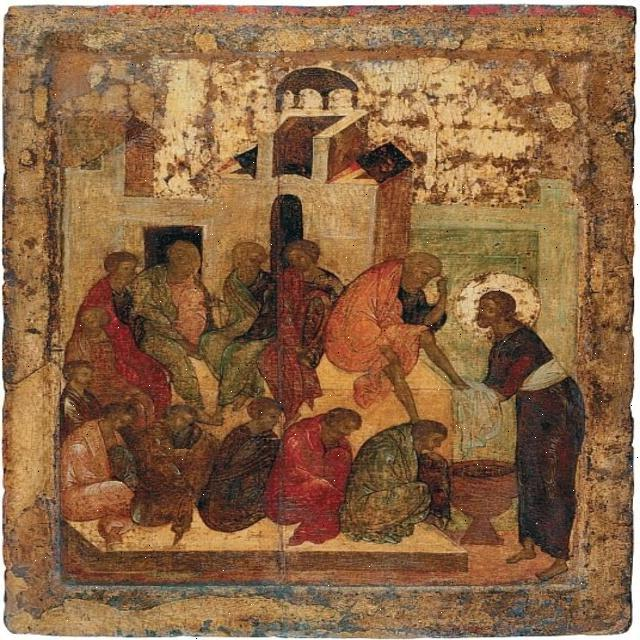apostle: (323, 249, 456, 407), (356, 405, 446, 547), (211, 237, 276, 403), (141, 398, 217, 539), (63, 398, 144, 529), (283, 401, 358, 539), (267, 233, 326, 401), (155, 236, 212, 404), (214, 397, 279, 539), (71, 299, 148, 399), (113, 241, 142, 381), (60, 356, 102, 419)
aura: (454, 272, 544, 334)
basin: (446, 456, 524, 551)
christ: (456, 269, 596, 584)
church: (206, 59, 411, 231)
cloth: (456, 377, 508, 456)
